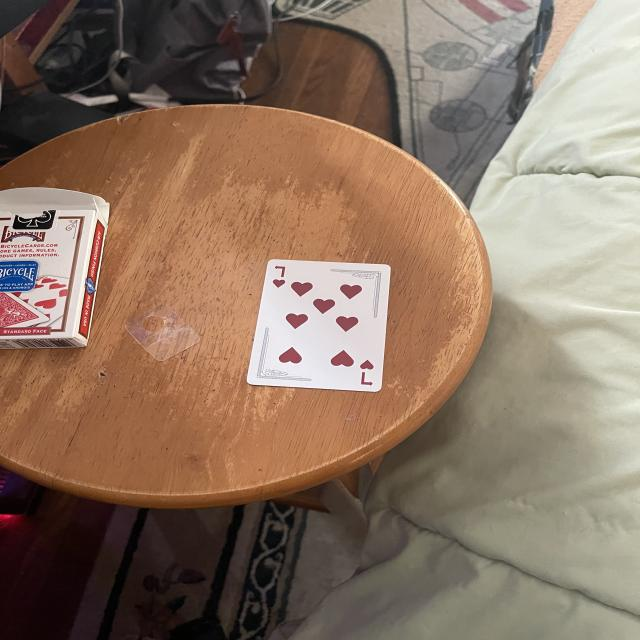7 of hearts: (248, 256, 394, 394)
